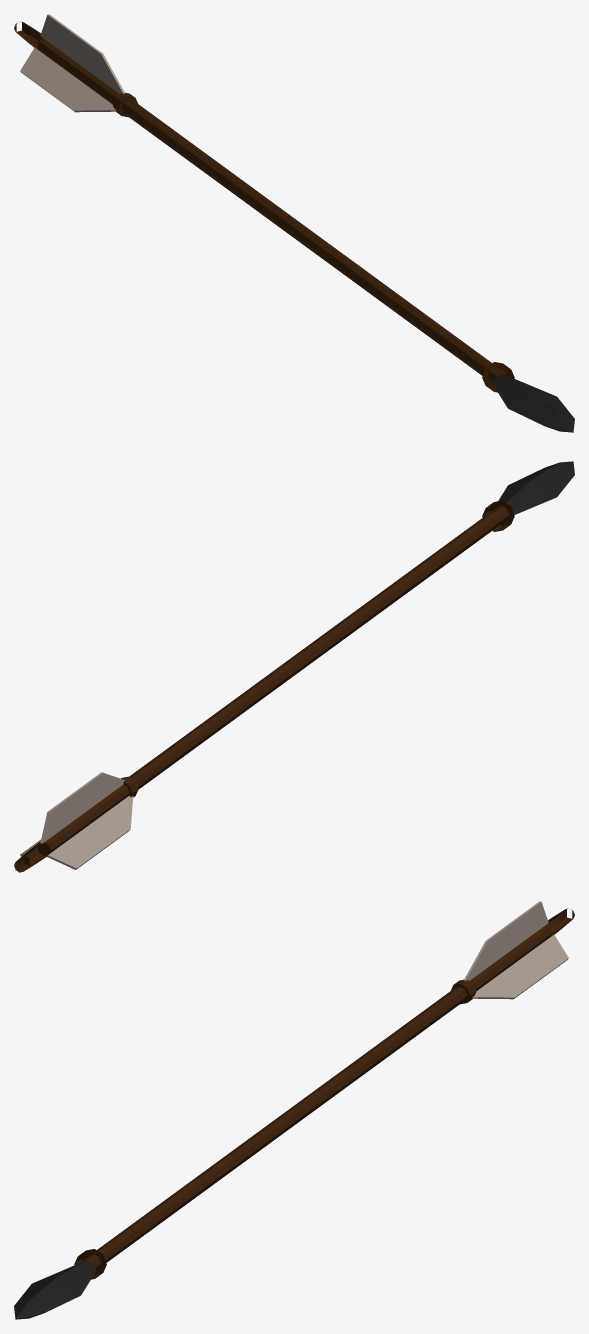
File: Outrider_Arrow.gltf
The picture shows the model from 3 angles, top to bottom: view 1: azimuth 30°, elevation 25°; view 2: azimuth 150°, elevation 25°; view 3: azimuth 330°, elevation 25°; orthographic projection.
Visible parts, largest first — view 1: Shaft, FletchingB, ArrowHead, FletchingA; view 2: Shaft, FletchingB, ArrowHead, FletchingA, HeadCollar; view 3: Shaft, FletchingC, ArrowHead, FletchingA.
Part boxes in pixels (left/top/right/bottom): Shaft: left=37, top=38, right=500, bottom=377; FletchingB: left=20, top=47, right=116, bottom=112; ArrowHead: left=492, top=373, right=574, bottom=432; FletchingA: left=40, top=14, right=125, bottom=93; Shaft: left=37, top=512, right=501, bottom=856; FletchingB: left=47, top=796, right=133, bottom=869; ArrowHead: left=498, top=461, right=574, bottom=515; FletchingA: left=40, top=772, right=124, bottom=843; HeadCollar: left=482, top=500, right=514, bottom=531; Shaft: left=88, top=925, right=551, bottom=1264; FletchingC: left=472, top=934, right=568, bottom=999; ArrowHead: left=14, top=1260, right=96, bottom=1319; FletchingA: left=463, top=901, right=548, bottom=980.
Size of the model in its own units: 0.00375 by 0.00325 by 0.0634.
1 material, 1 textured.
